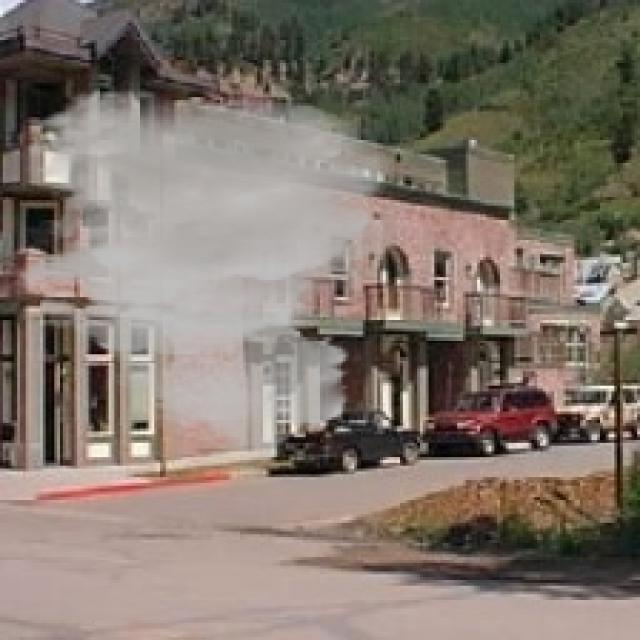Smoke: (17, 88, 440, 474)
